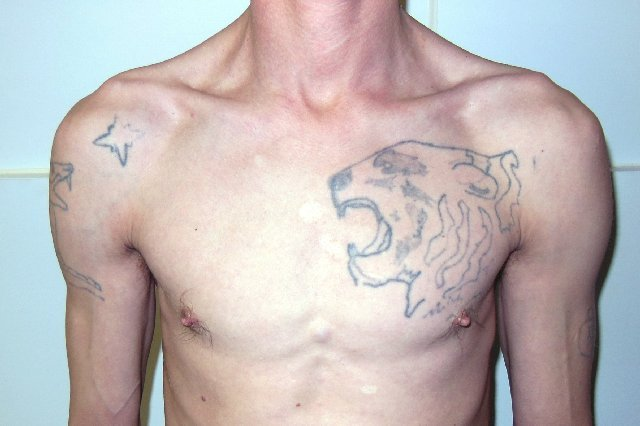tatu4_zvezda: (92, 113, 147, 169)
tatu5_tigr: (325, 137, 531, 316)
